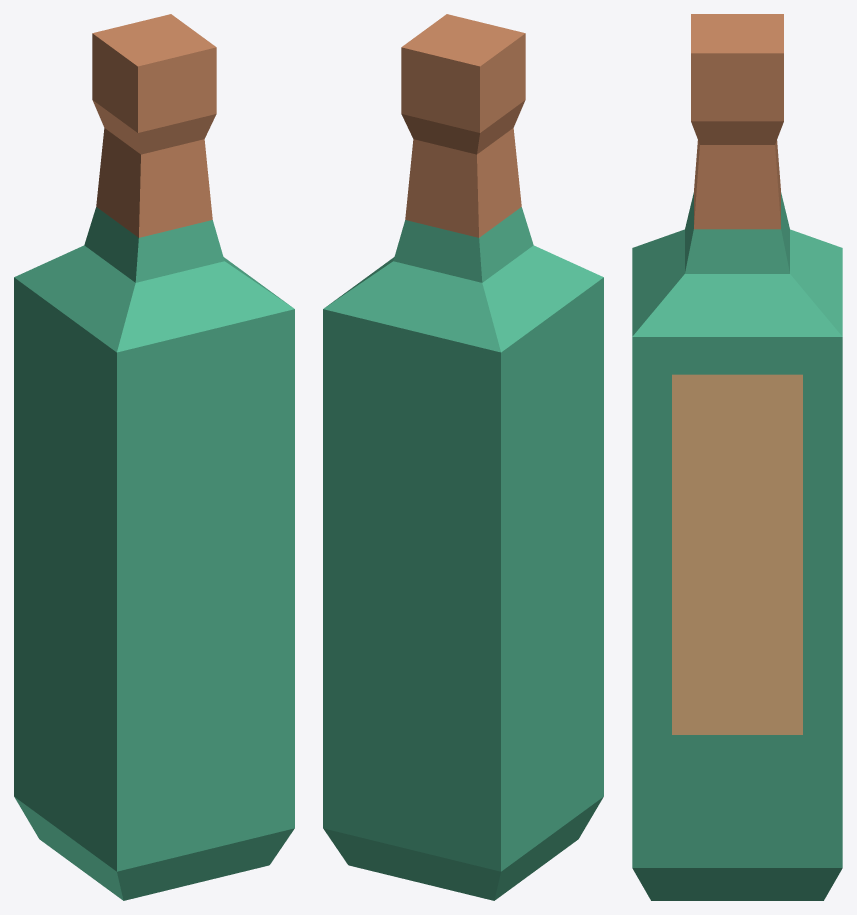
The model's file is bottleOil.fbx.
3 views of the same model, side by side, from view 1: azimuth 30°, elevation 25°; view 2: azimuth 150°, elevation 25°; view 3: azimuth 270°, elevation 25° (orthographic). The views are drawn at different scales.
Parts seen in each view (by area): view 1: bottleOil; view 2: bottleOil; view 3: bottleOil.
Boxes of the visible parts, x1,y1,x2,y2 form: bottleOil: [14, 14, 294, 900]; bottleOil: [323, 14, 603, 900]; bottleOil: [632, 14, 842, 900].
Bounding box in the file's own units: 1.4 × 6.1 × 1.4.
